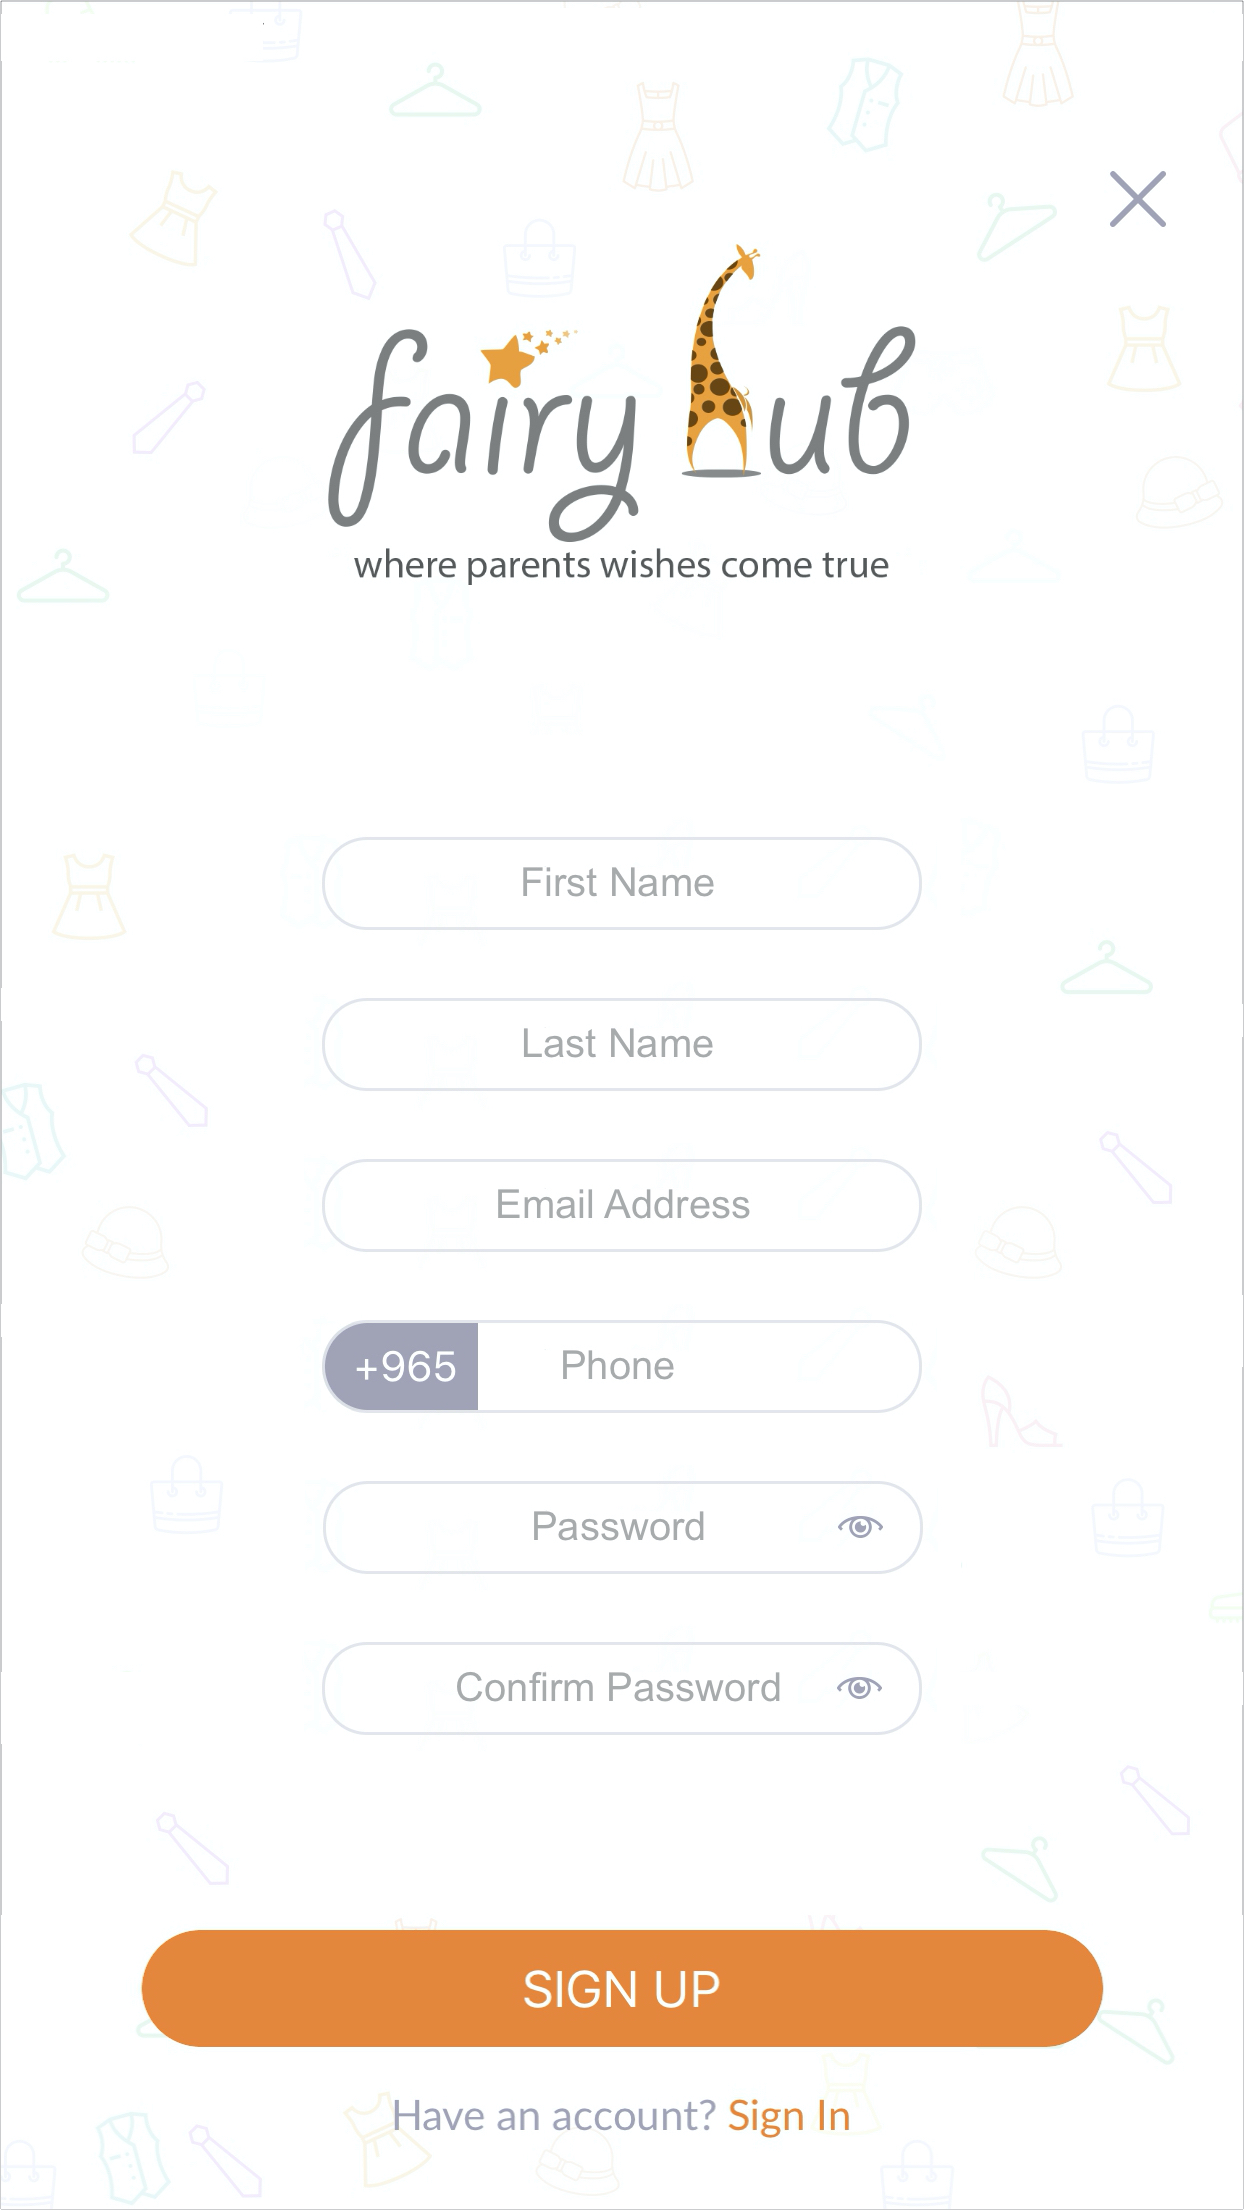EditText: (322, 1641, 922, 1735), (322, 836, 922, 930), (322, 1321, 922, 1413), (322, 999, 922, 1091), (322, 1160, 922, 1252), (323, 1481, 922, 1574)
Icon: (1110, 172, 1167, 228), (837, 1516, 883, 1538), (837, 1677, 881, 1698)
Image: (328, 244, 916, 543)
Text: (353, 548, 889, 586), (394, 2098, 716, 2131), (728, 2098, 850, 2139)
TextButton: (141, 1929, 1104, 2048)
